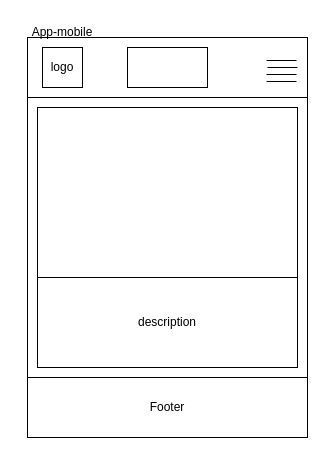
This 325x455 diagram has some shape labels left out. Each missing label, with the box of its shape:
connexion: (126, 46, 208, 88)
img: (36, 106, 298, 278)
